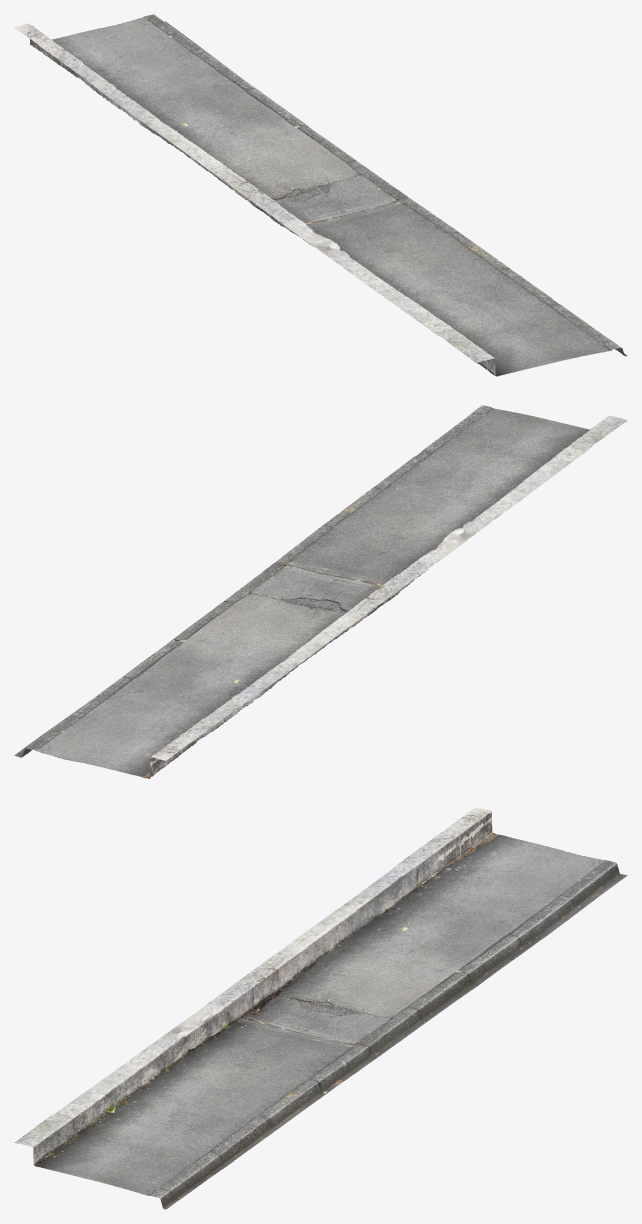
Rendered from sidewalk_8m_long_-_hq (1).glb.
The picture shows the model from 3 angles, top to bottom: view 1: azimuth 30°, elevation 25°; view 2: azimuth 150°, elevation 25°; view 3: azimuth 330°, elevation 25°; orthographic projection.
Visible parts, largest first — view 1: Object_2, Object_3; view 2: Object_2, Object_3; view 3: Object_2, Object_3.
Boxes of the visible parts, x1=… form: Object_2: x1=14, y1=14, x2=627, y2=376; Object_3: x1=164, y1=21, x2=542, y2=303; Object_2: x1=22, y1=405, x2=627, y2=778; Object_3: x1=14, y1=460, x2=507, y2=757; Object_2: x1=14, y1=807, x2=619, y2=1209; Object_3: x1=134, y1=874, x2=627, y2=1144.
Size of the model in its own units: 1.54 by 0.3555 by 8.12.
Materials: 1 (1 with a texture image).
